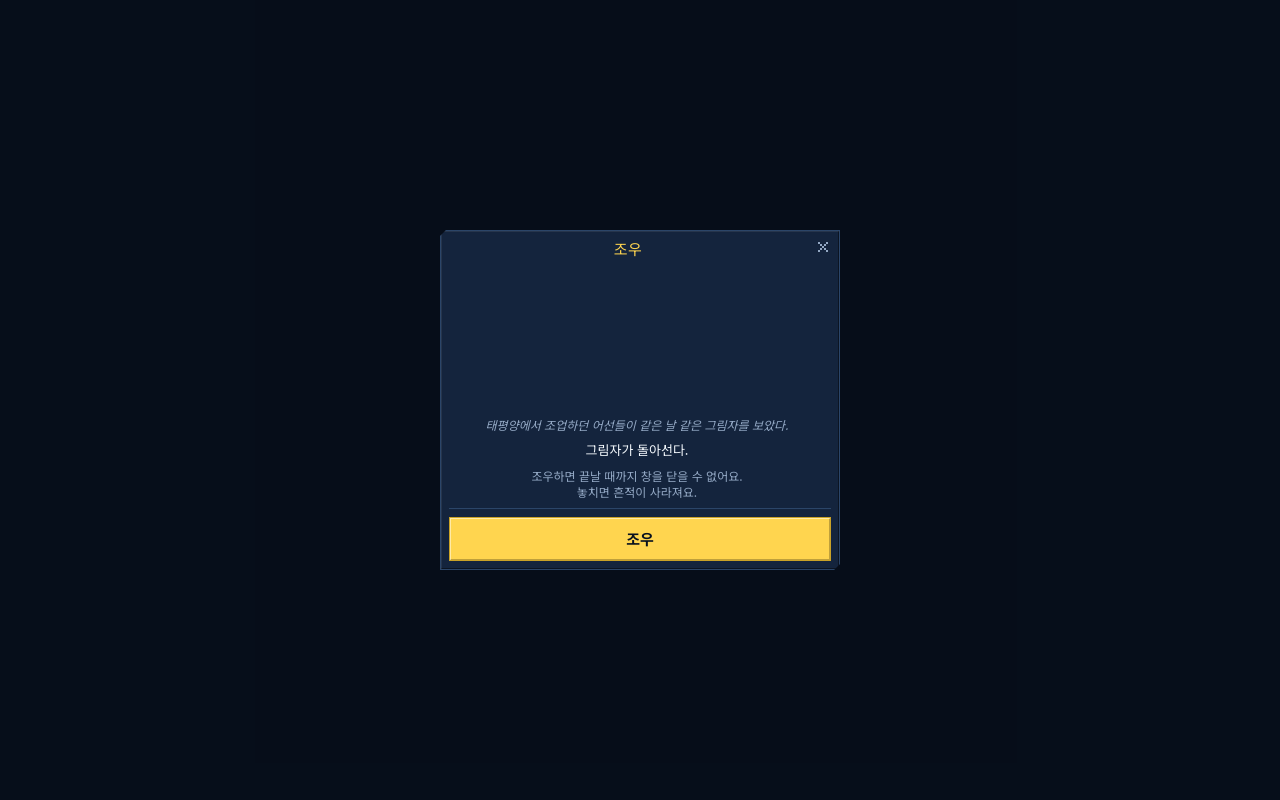
EncounterModal › 네임드 체력(메갈로돈 5)만큼 맞히면 이름이 드러나고 토벌 버튼이 결과를 보낸다
Later steps or results of the test are not shown.
What coordinates should you click on to do the following:
click the button "조우"
I would click on:
 (640, 539)
Its box is [449,517,831,561].
Wait 350 ms
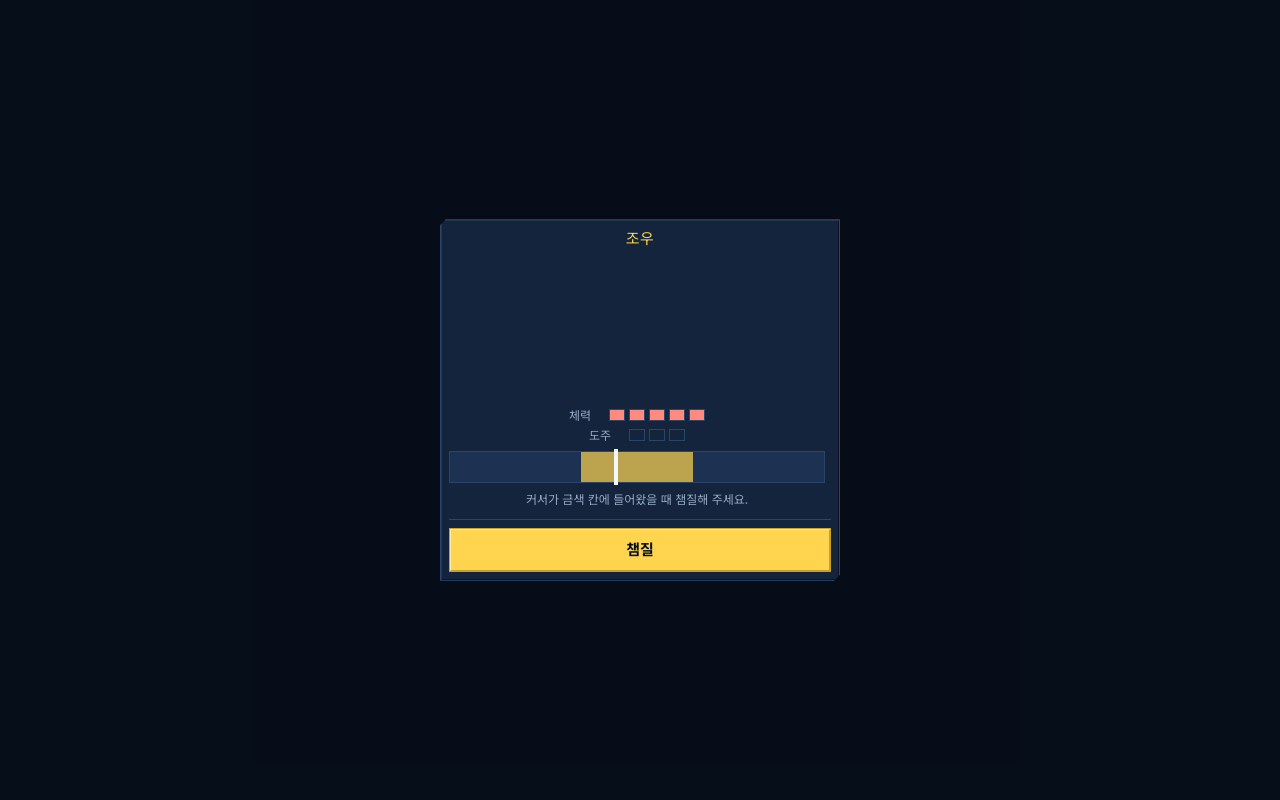
What coordinates should you click on to do the following:
click the button "챔질"
I would click on:
 (640, 550)
Its box is [449,528,831,572].
Wait 850 ms
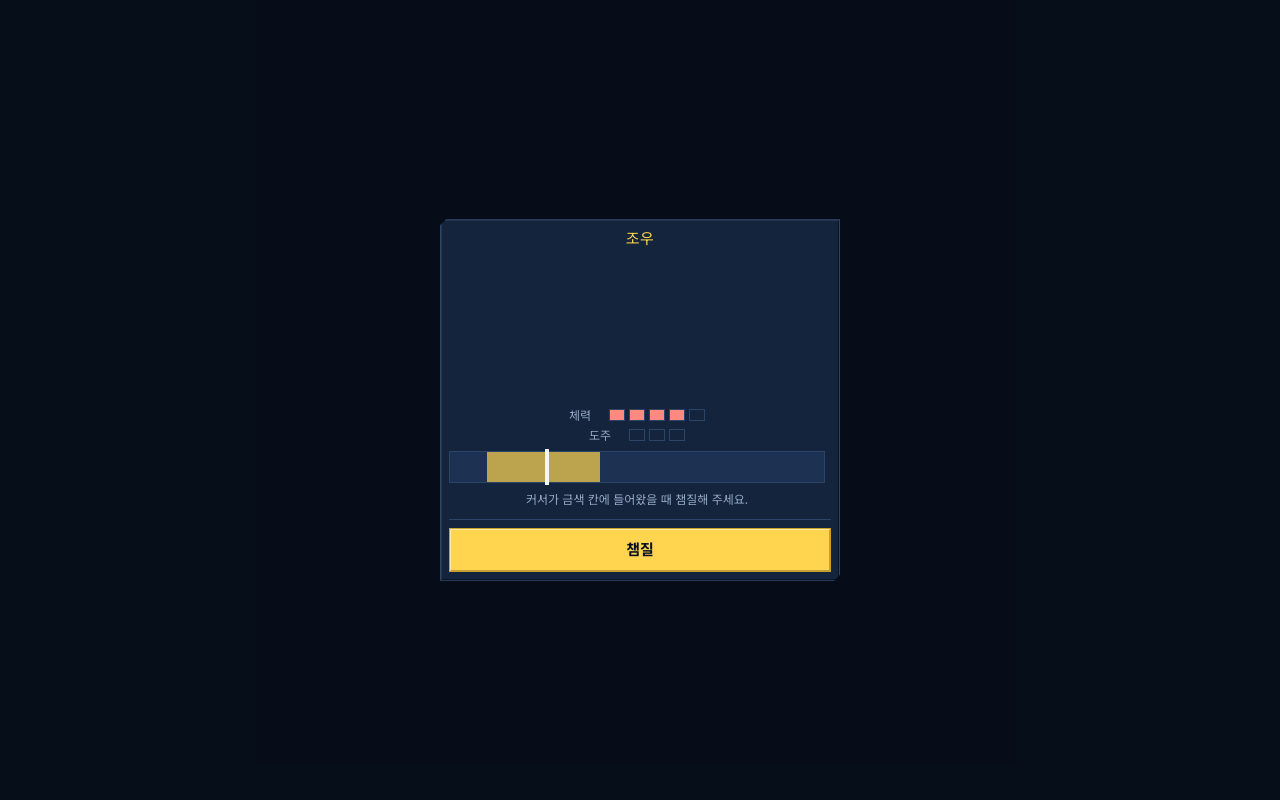
What coordinates should you click on to do the following:
click the button "챔질"
I would click on:
 (640, 550)
Its box is [449,528,831,572].
Wait 450 ms
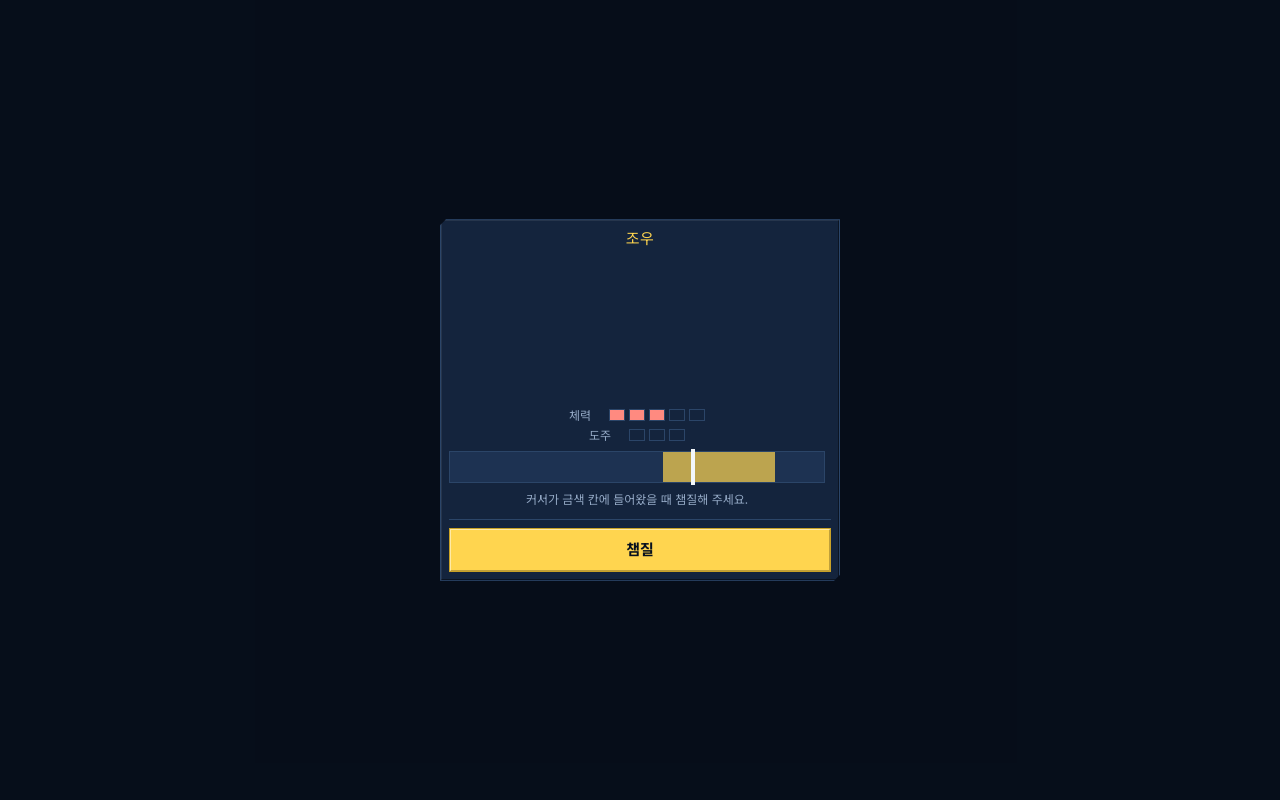
What coordinates should you click on to do the following:
click the button "챔질"
I would click on:
 (640, 550)
Its box is [449,528,831,572].
Wait 350 ms
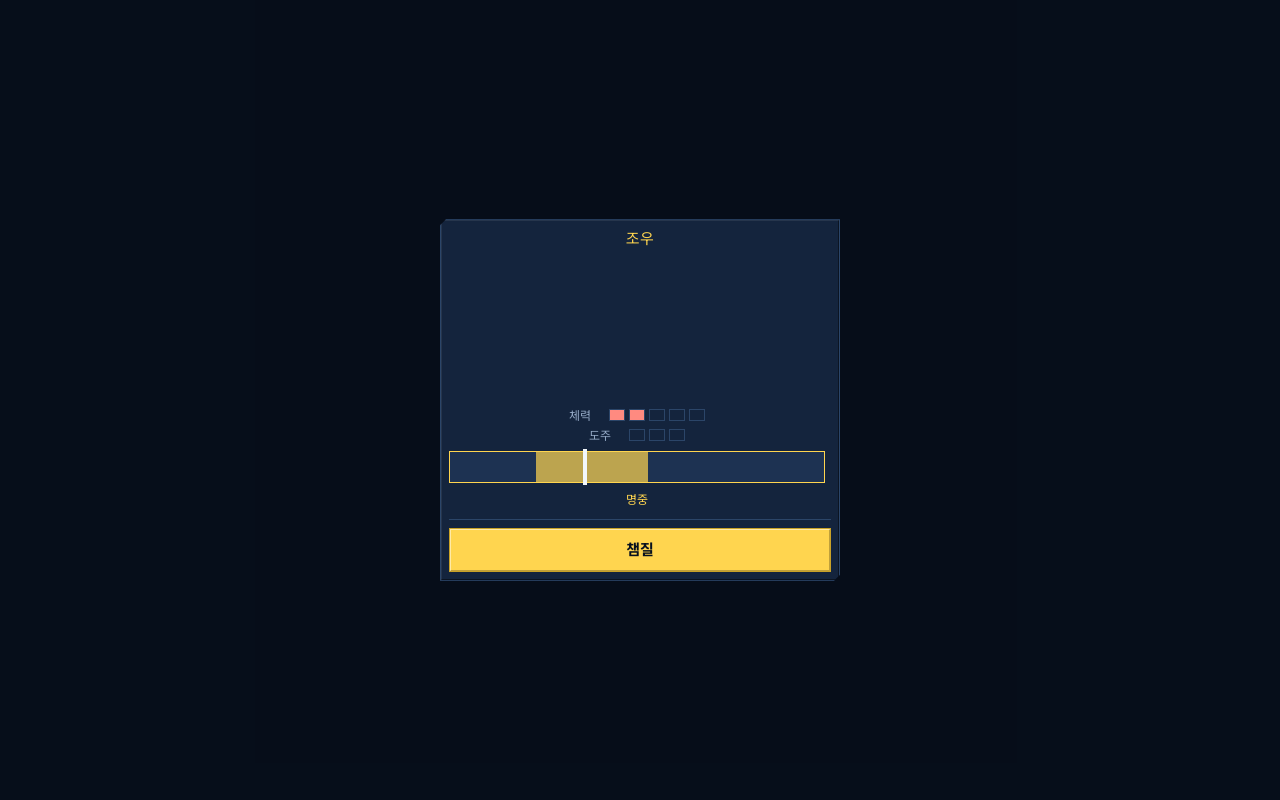
What coordinates should you click on to do the following:
click the button "챔질"
I would click on:
 (640, 550)
Its box is [449,528,831,572].
Wait 400 ms
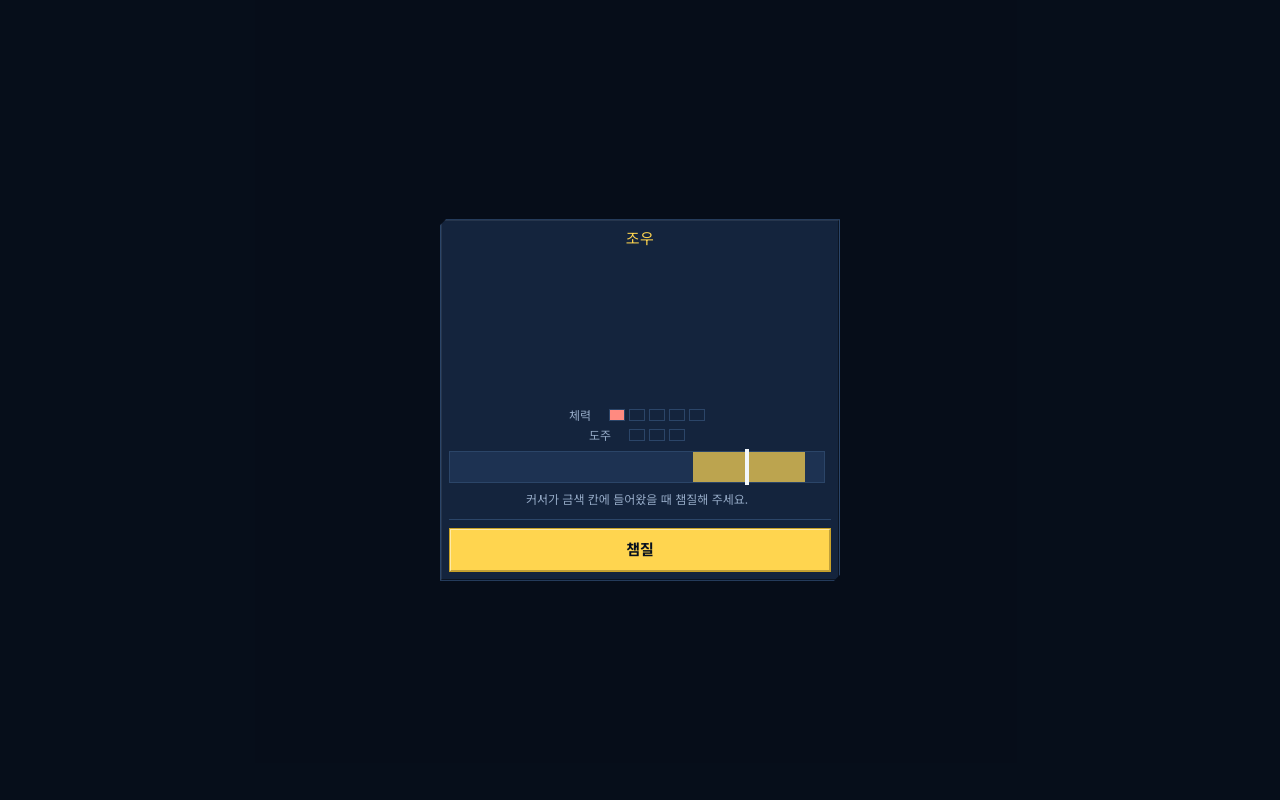
What coordinates should you click on to do the following:
click the button "챔질"
I would click on:
 (640, 550)
Its box is [449,528,831,572].
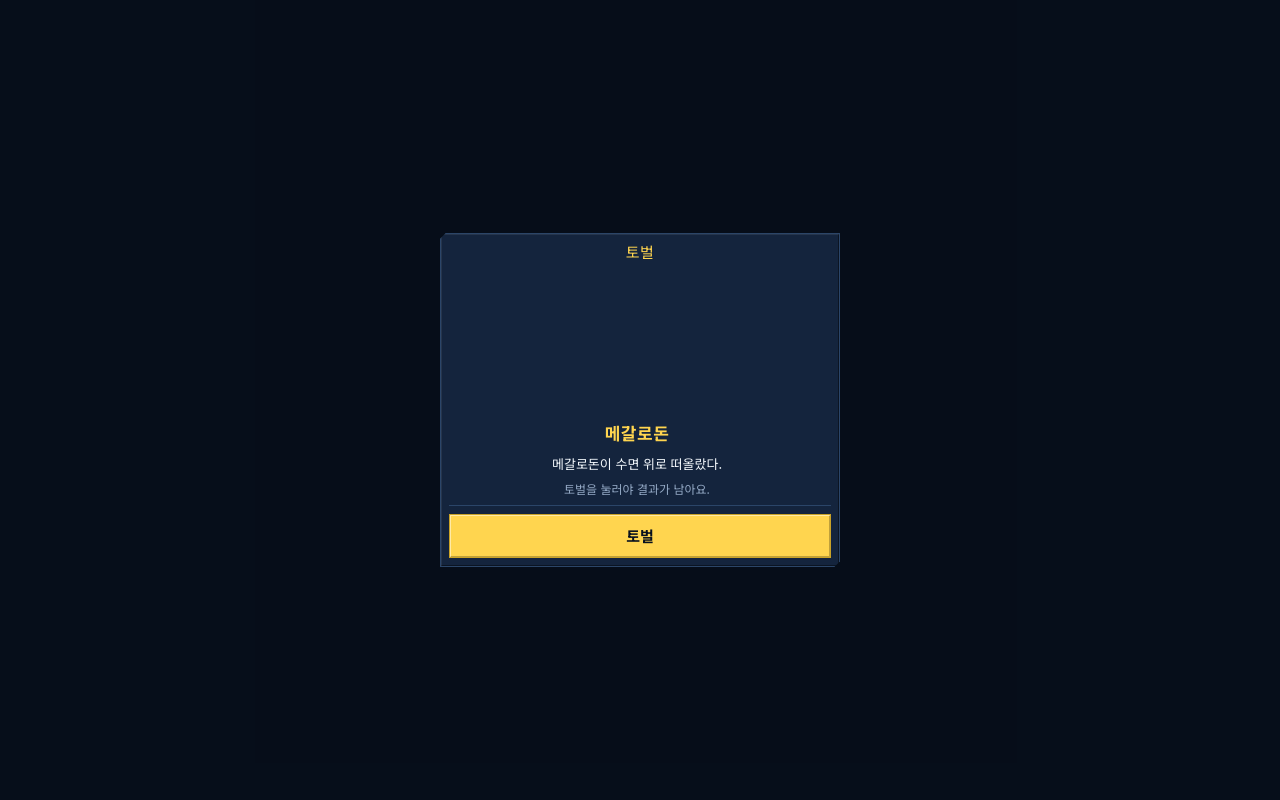
Expected: the text "메갈로돈" is shown, [605,422,669,444]
Expected: the text "메갈로돈이 수면 위로 떠올랐다." is shown, [552,454,722,473]
